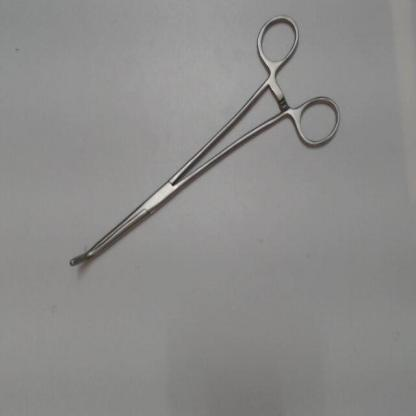Lahey Forceps: (60, 2, 344, 284)
